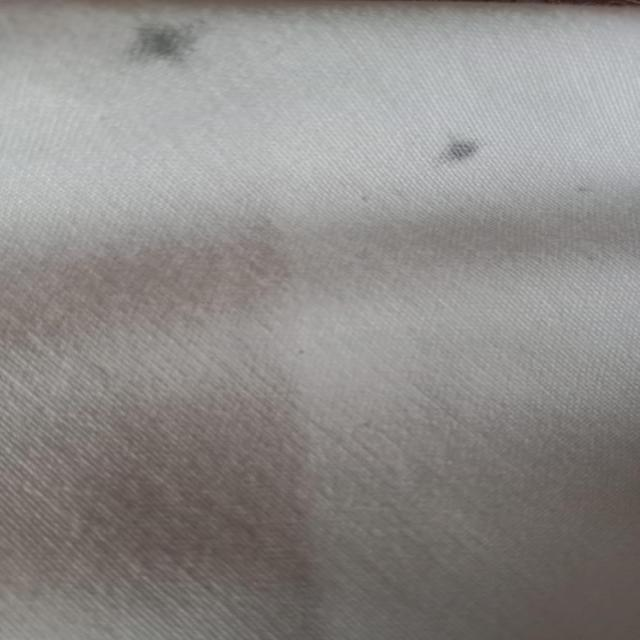stain: (112, 5, 225, 85), (403, 127, 512, 175)
